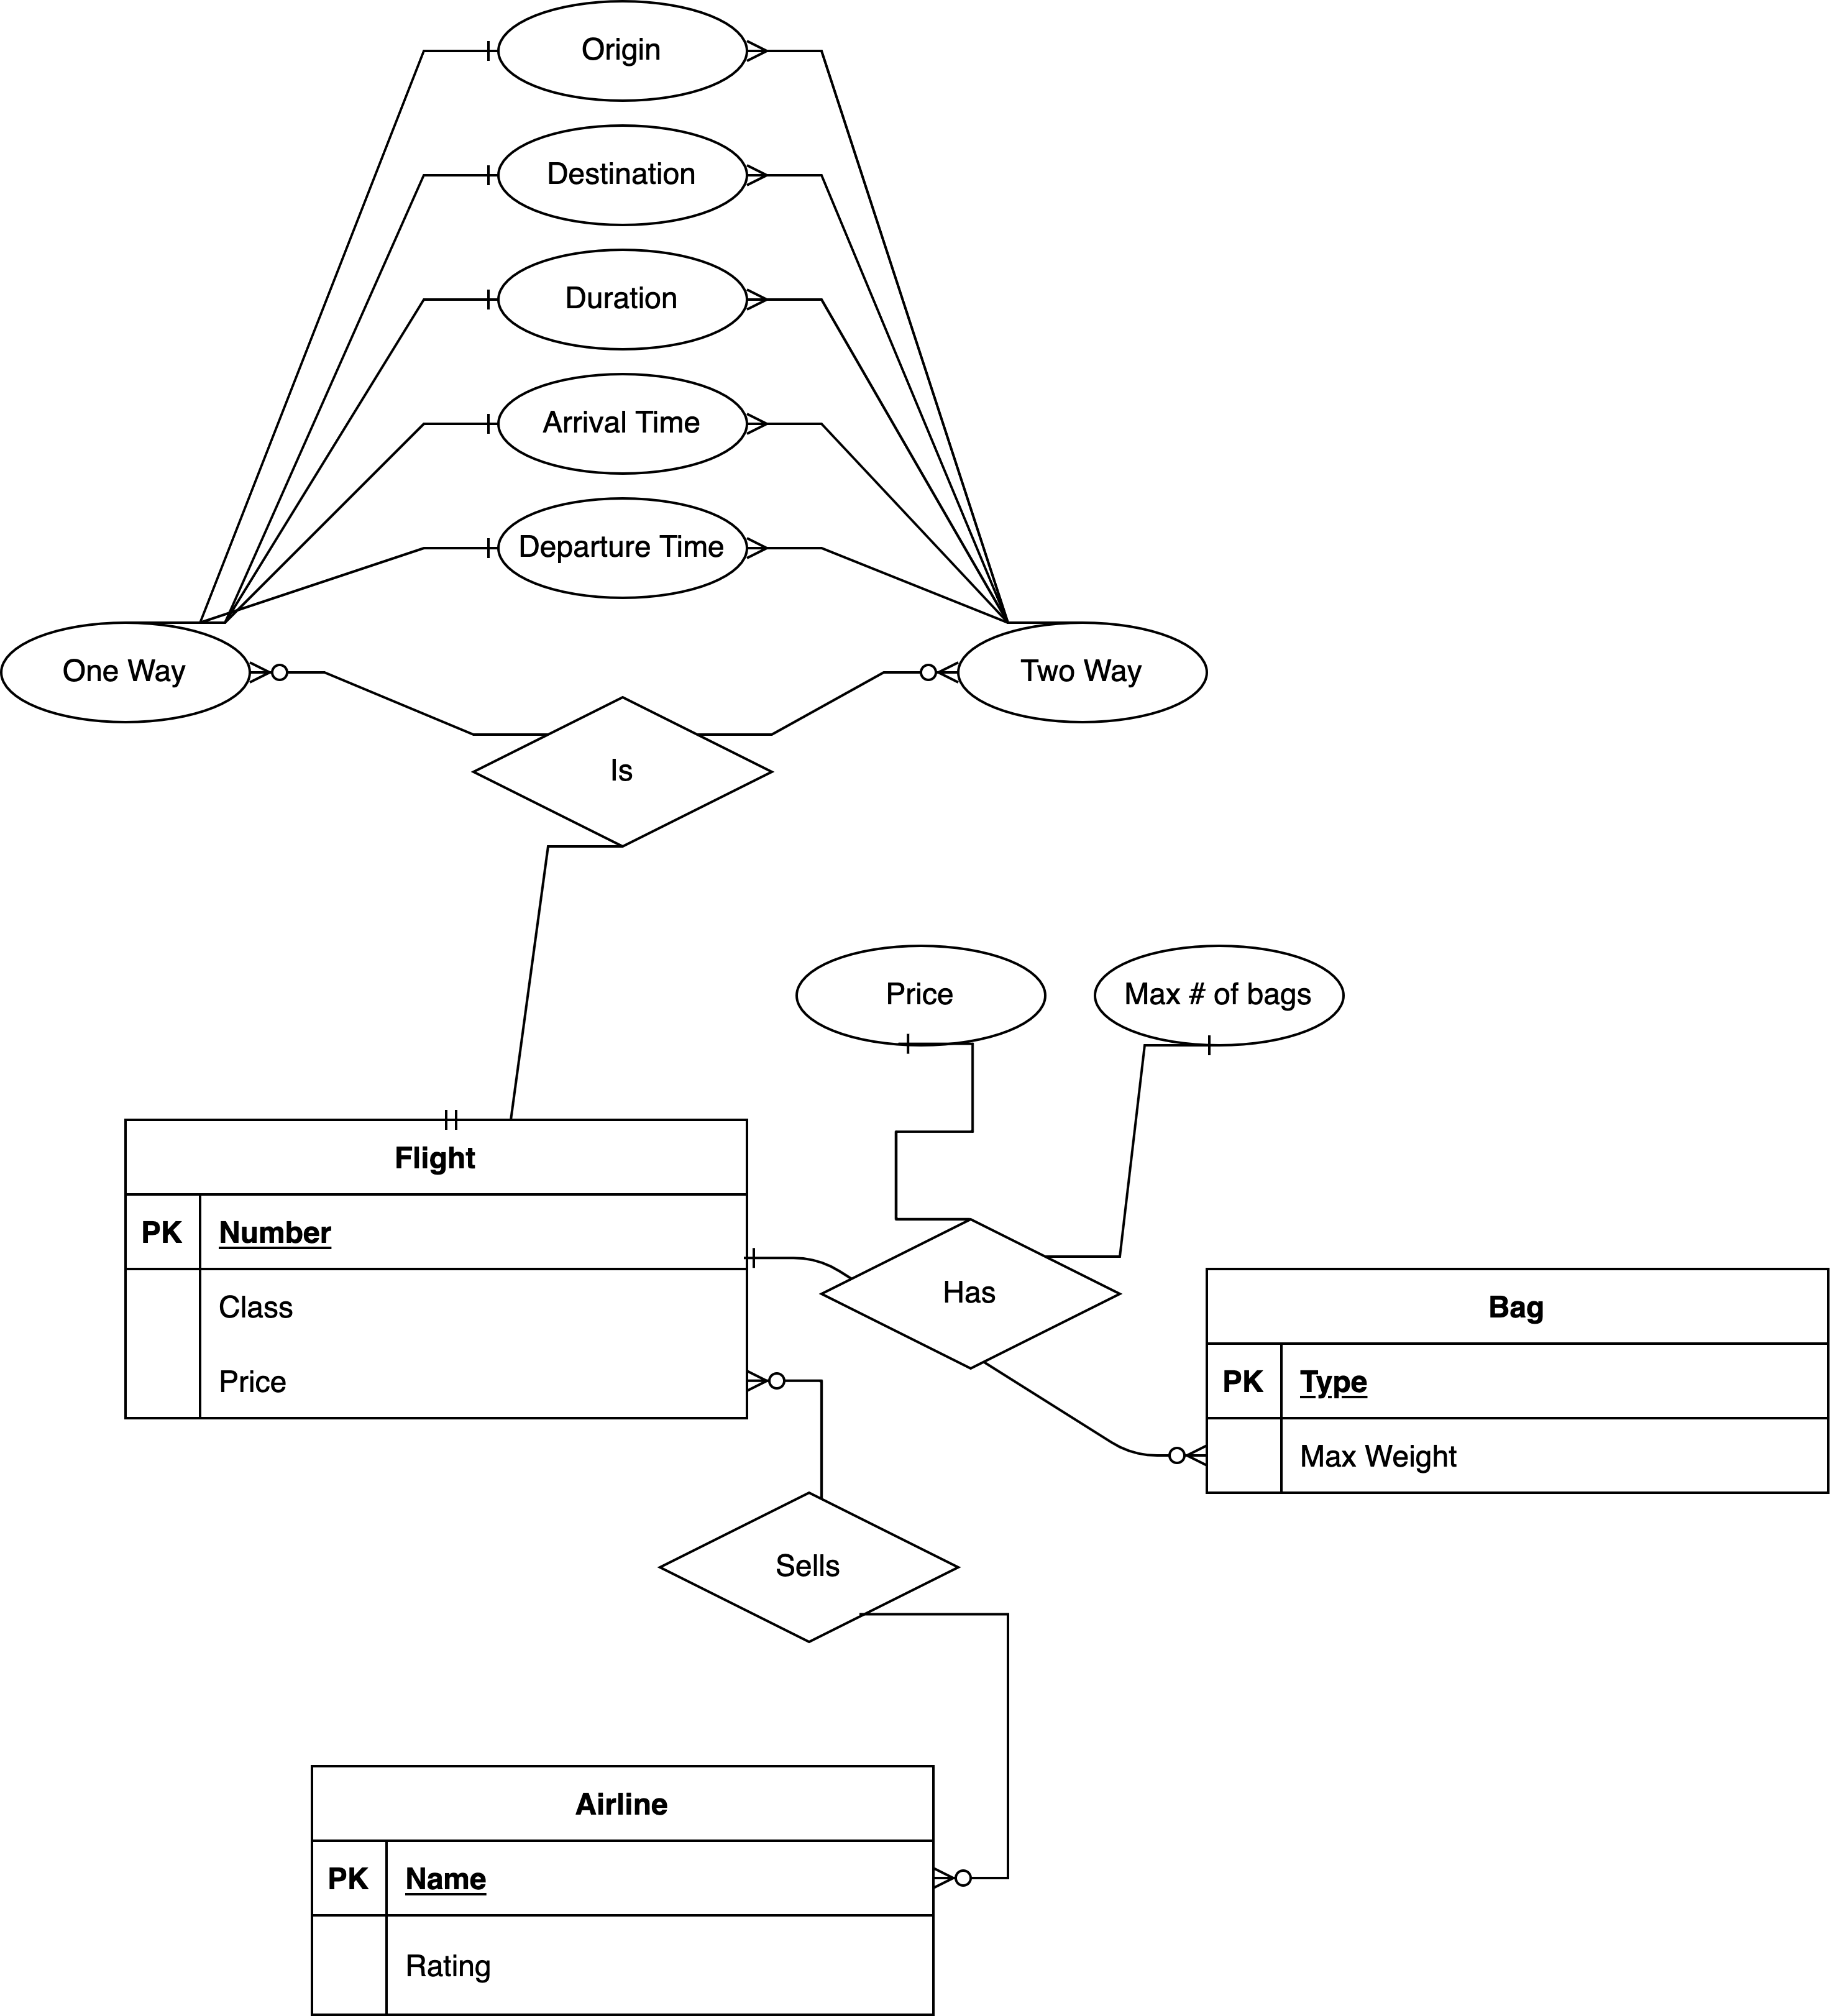entity: (125, 1115, 750, 1422), (309, 1761, 934, 2016), (1210, 1271, 1832, 1498)
many: (747, 406, 822, 444), (1126, 1442, 1210, 1475), (882, 657, 964, 688), (246, 659, 321, 690), (933, 1861, 1005, 1893), (747, 39, 822, 68), (743, 162, 819, 190), (743, 286, 819, 314), (747, 536, 820, 562), (747, 1368, 819, 1393)
one: (436, 1098, 509, 1131), (1143, 1033, 1235, 1059), (422, 37, 497, 68), (422, 411, 501, 441), (896, 1031, 975, 1059), (743, 1245, 819, 1273), (427, 537, 504, 562), (423, 165, 506, 186), (429, 292, 499, 313)
rel: (472, 697, 775, 848), (657, 1493, 954, 1645), (824, 1222, 1117, 1368)
rel_attr: (0, 616, 269, 720), (495, 495, 755, 597), (499, 2, 757, 104), (504, 249, 761, 351), (506, 123, 752, 228), (952, 622, 1212, 720), (1094, 947, 1345, 1047), (497, 376, 759, 471), (797, 947, 1045, 1043)
